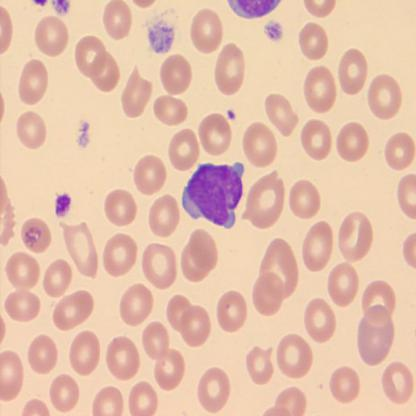Blast: (179, 160, 247, 231)
